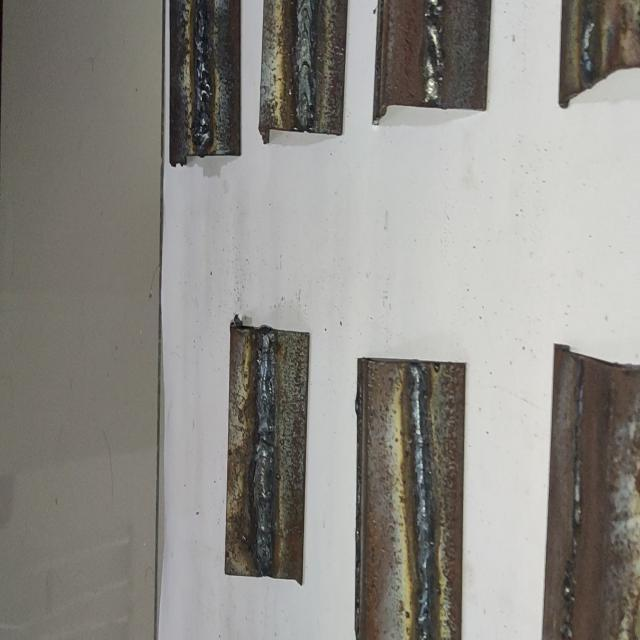Defect: (194, 1, 212, 149), (424, 2, 444, 102)
Welding Line: (410, 364, 433, 640), (255, 331, 278, 572), (196, 0, 212, 151), (295, 0, 314, 126), (425, 0, 443, 101)
Workpiece: (350, 352, 470, 640), (534, 340, 639, 640), (222, 316, 314, 584), (370, 0, 493, 130), (258, 0, 350, 151), (166, 0, 244, 169), (556, 0, 640, 110)
